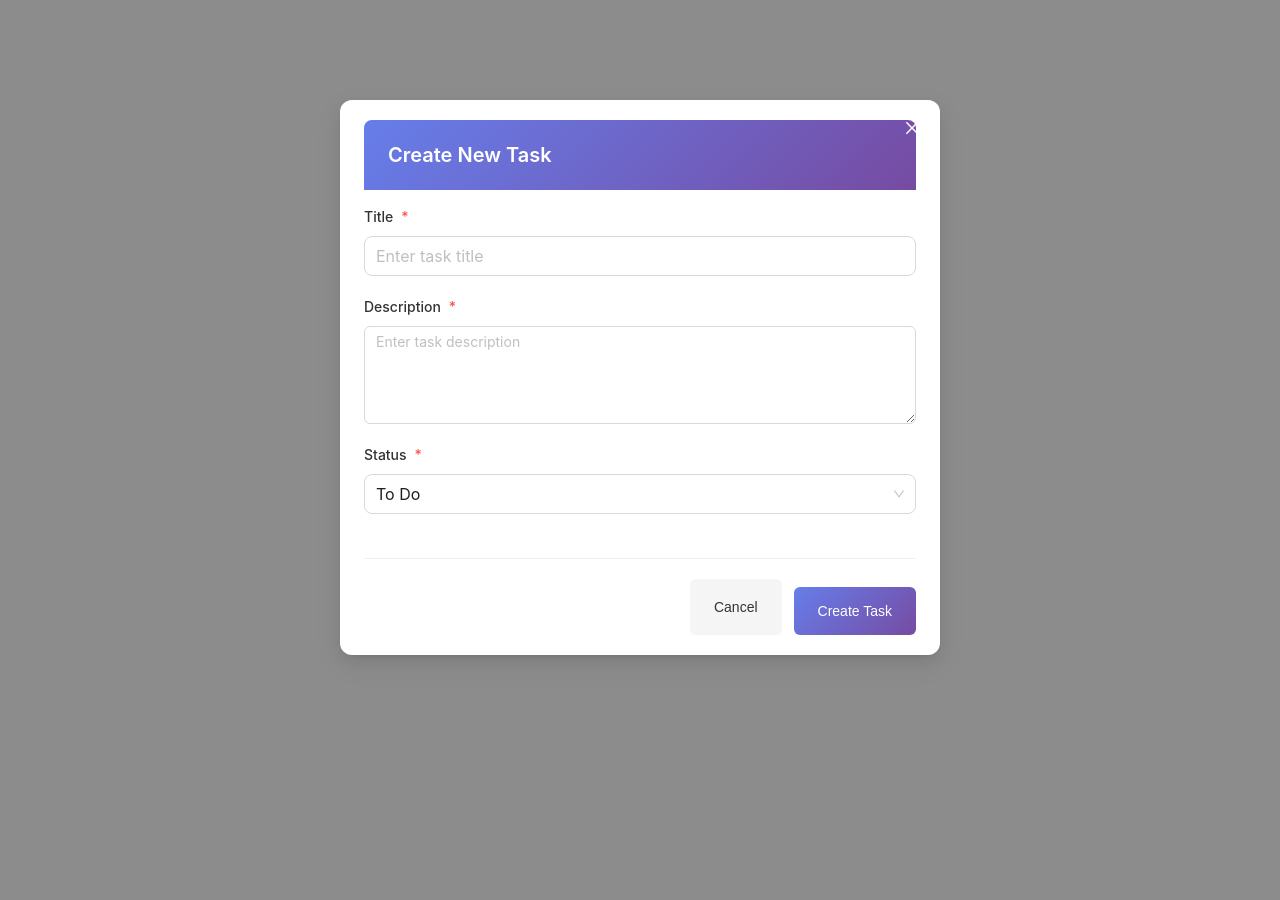
Scenario: TaskModal › should show validation error for short description
The image size is (1280, 900).
Type "Valid Title" into the field labelled "Title *" at (640, 256), box [364,236,916,276]
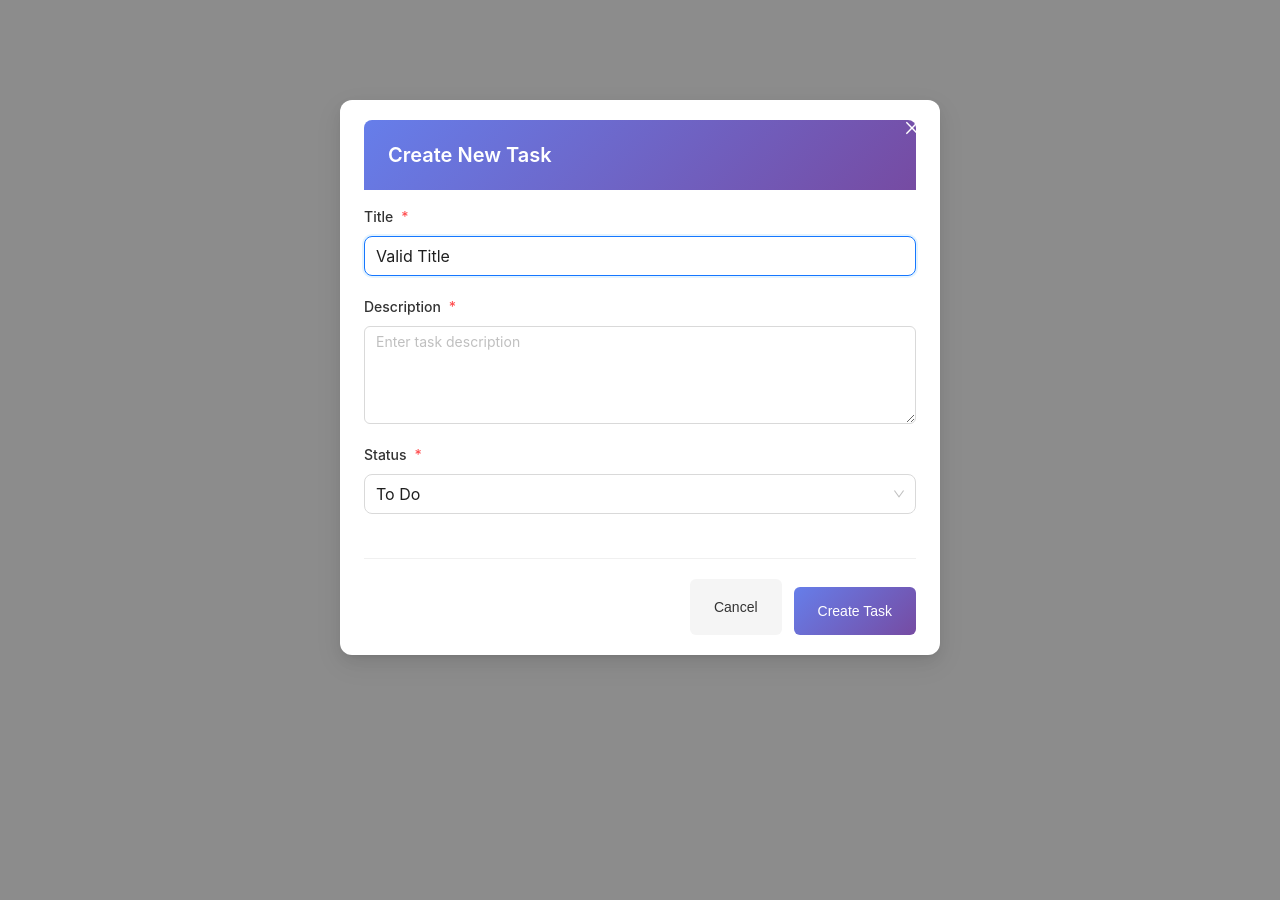
Type "Short" into the text box labelled "Description *" at (640, 375), box [364,326,916,424]
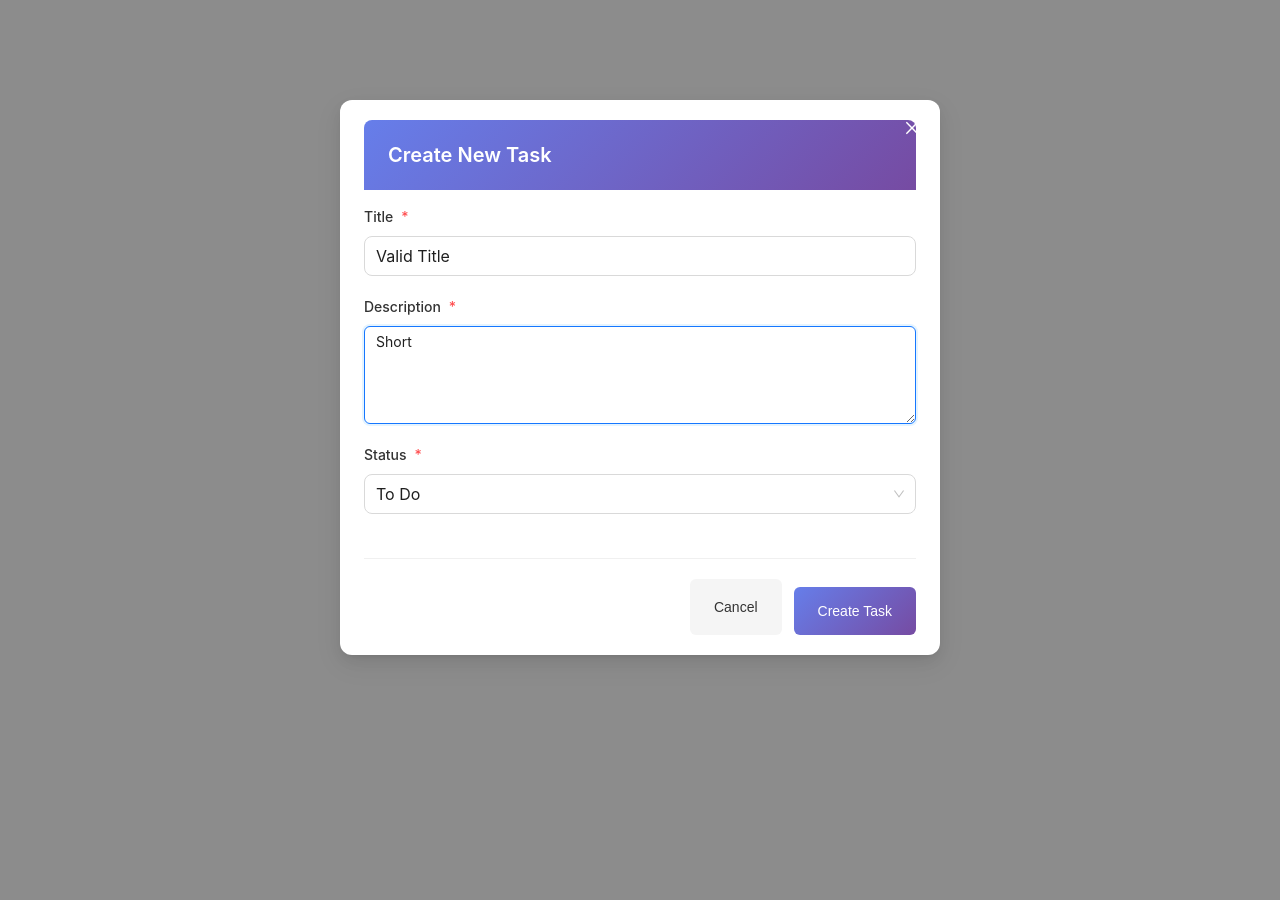
Click the button "Create Task" at (855, 611), box [794,587,916,635]
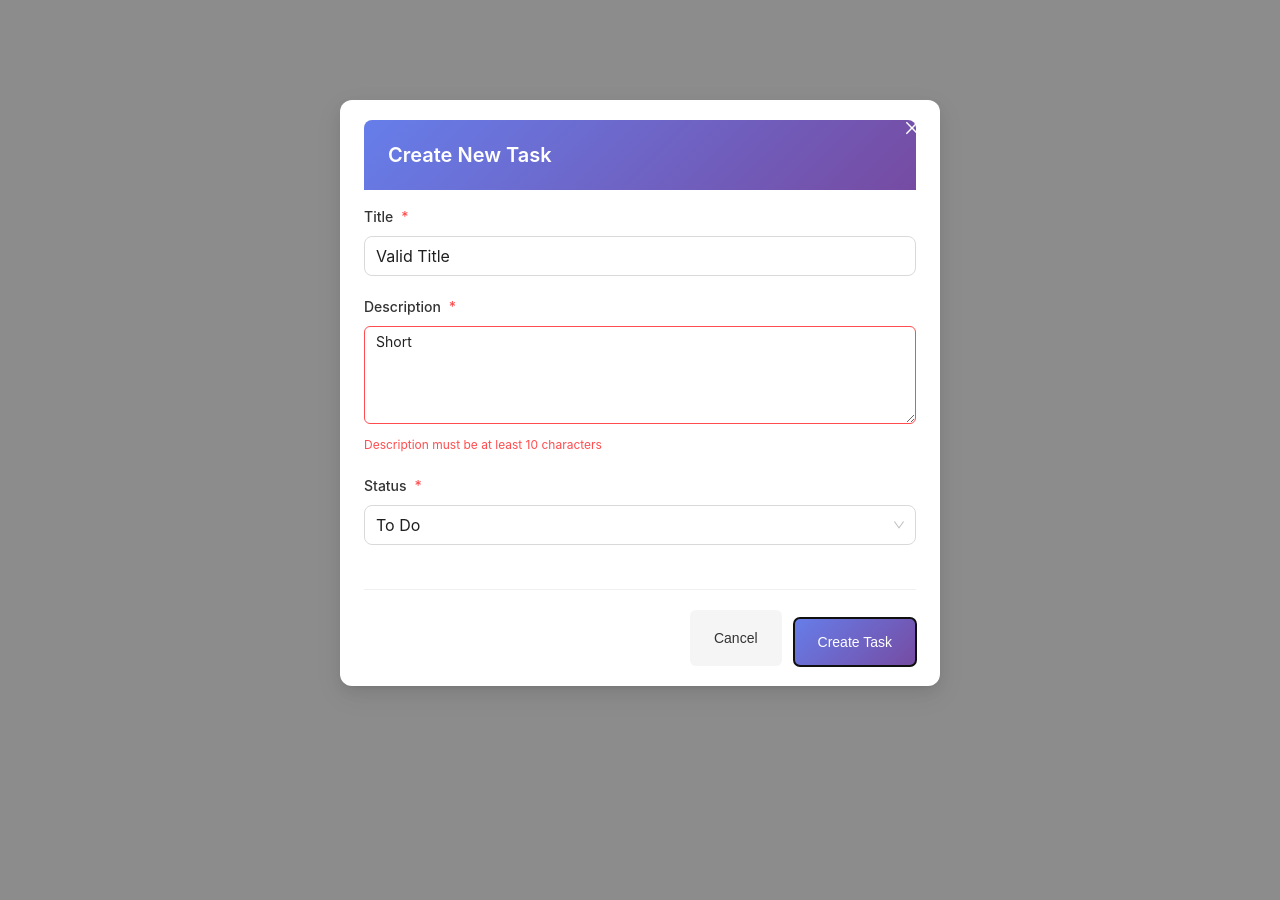
Check: the text "Description must be at least 10 characters" is shown, box [364,437,602,452]
